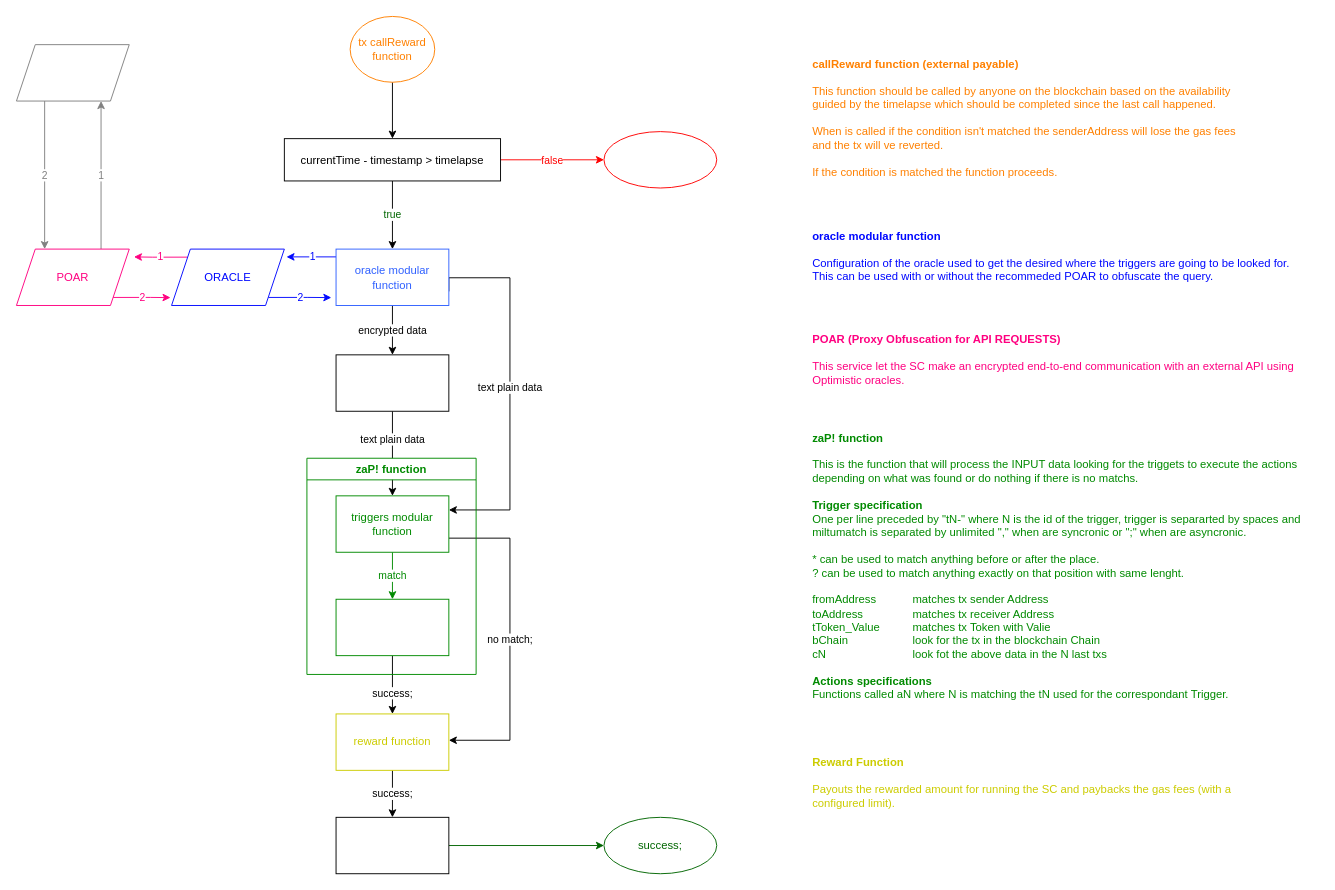
Some shapes in this 1335 by 890 pixel diagram are drawn without their labels. The centre of each missing label's shape, as x and y in pixels:
"actions by matched triggers" belongs at (392,627).
"blockchain data provider API" belongs at (72,72).
"decrypt function" belongs at (392,382).
"revert;" belongs at (660,159).
"store new timestamp;" belongs at (392,845).
